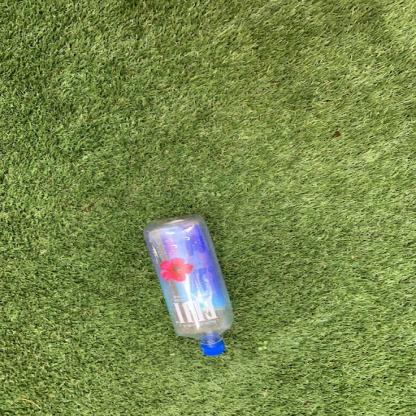trash: (140, 210, 240, 355)
